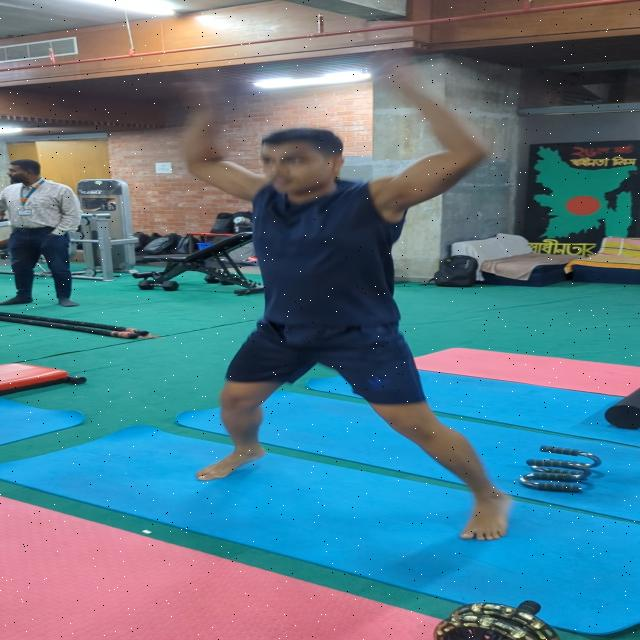Normal_JumpingJacks: (166, 44, 535, 540)
